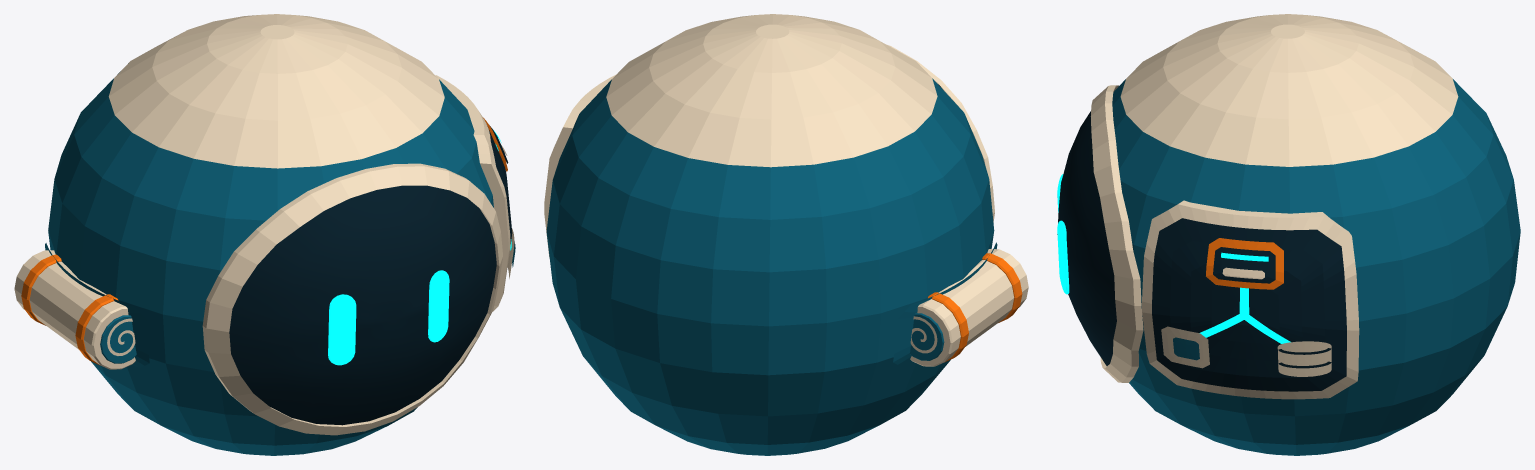
The model's file is copilot_architect_v01.glb.
3 views of the same model, side by side, from view 1: azimuth 30°, elevation 25°; view 2: azimuth 150°, elevation 25°; view 3: azimuth 270°, elevation 25° (orthographic).
Visible parts, largest first — view 1: pavilion_body, pavilion_eyes; view 2: pavilion_body; view 3: pavilion_body, pavilion_eyes.
Boxes of the visible parts, left/top/right/bottom form: pavilion_body: left=14, top=14, right=515, bottom=455; pavilion_eyes: left=328, top=130, right=511, bottom=365; pavilion_body: left=544, top=14, right=1028, bottom=455; pavilion_body: left=1057, top=14, right=1520, bottom=455; pavilion_eyes: left=1057, top=174, right=1290, bottom=343.
Size of the model in its own units: 3.06 by 2.64 by 2.84.
Materials: 2 (2 with a texture image).
